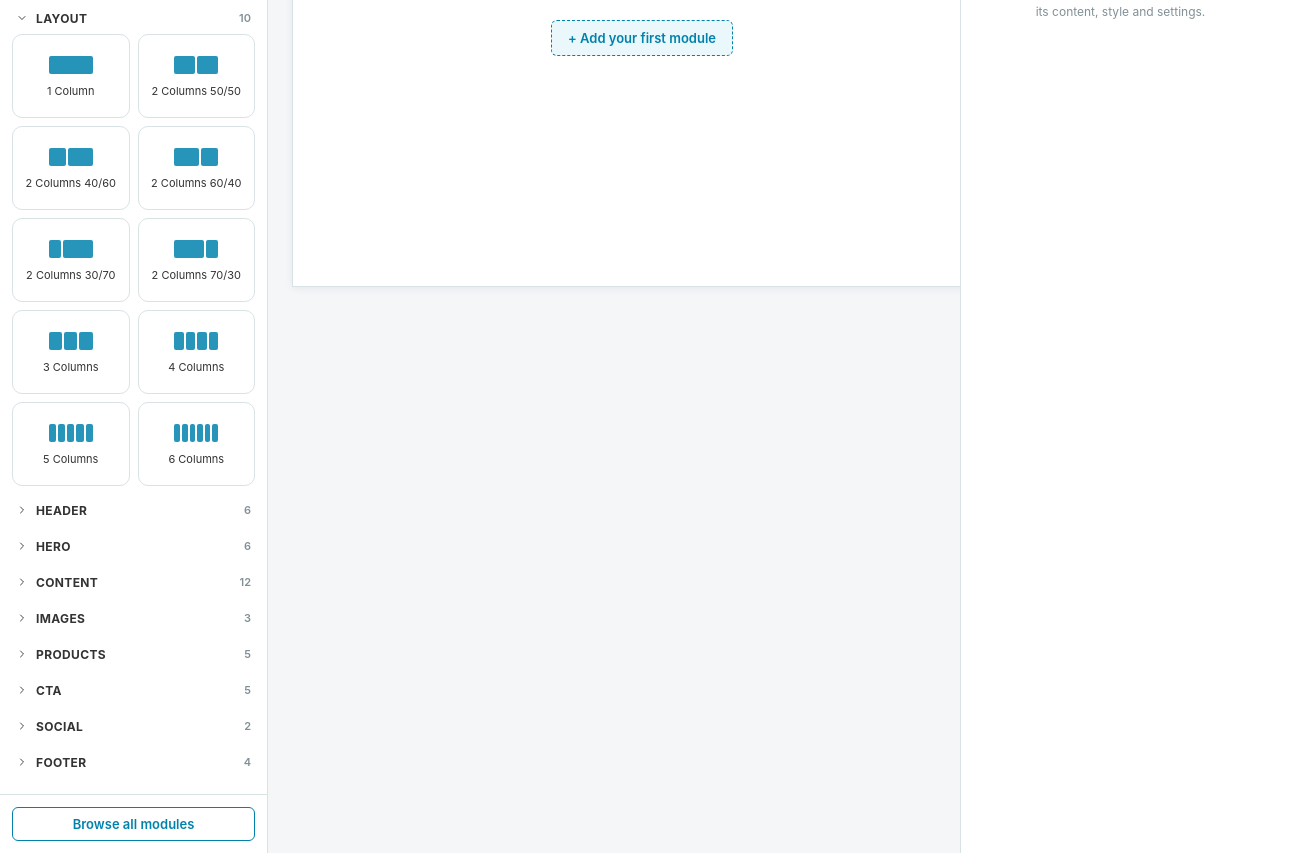
Test case: EmailBuilderWorkspacePage › duplicating a module inserts a second copy
The width and height of the screenshot is (1292, 853).
(page scrolled)
Click the button "CTA 5" at coordinates (134, 690), box [12,674,255,706]
(page scrolled)
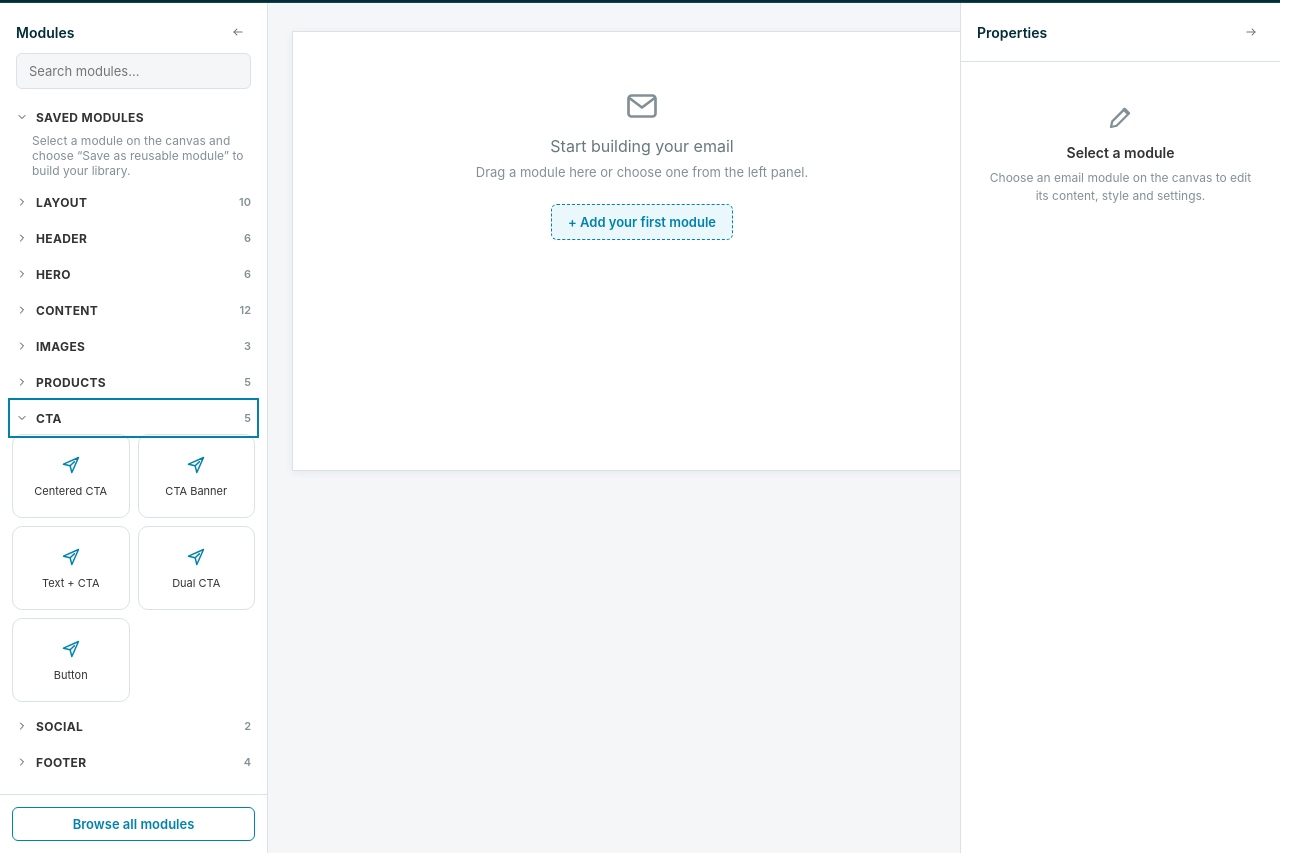
Click the button with aria-label "Add Button" at coordinates (71, 660), box [12,618,130,702]
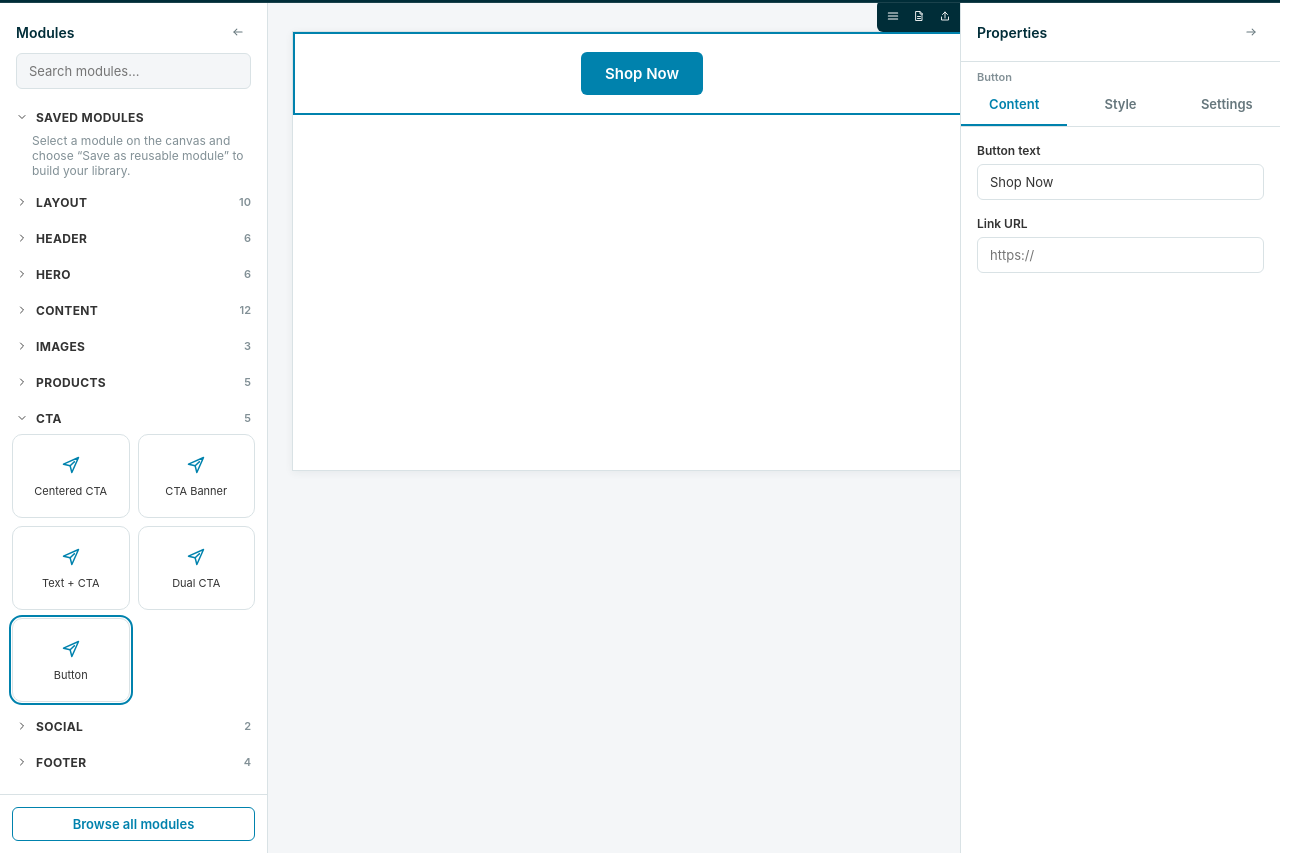
Click the text "Shop Now" at coordinates (642, 74), box [581,52,703,95]
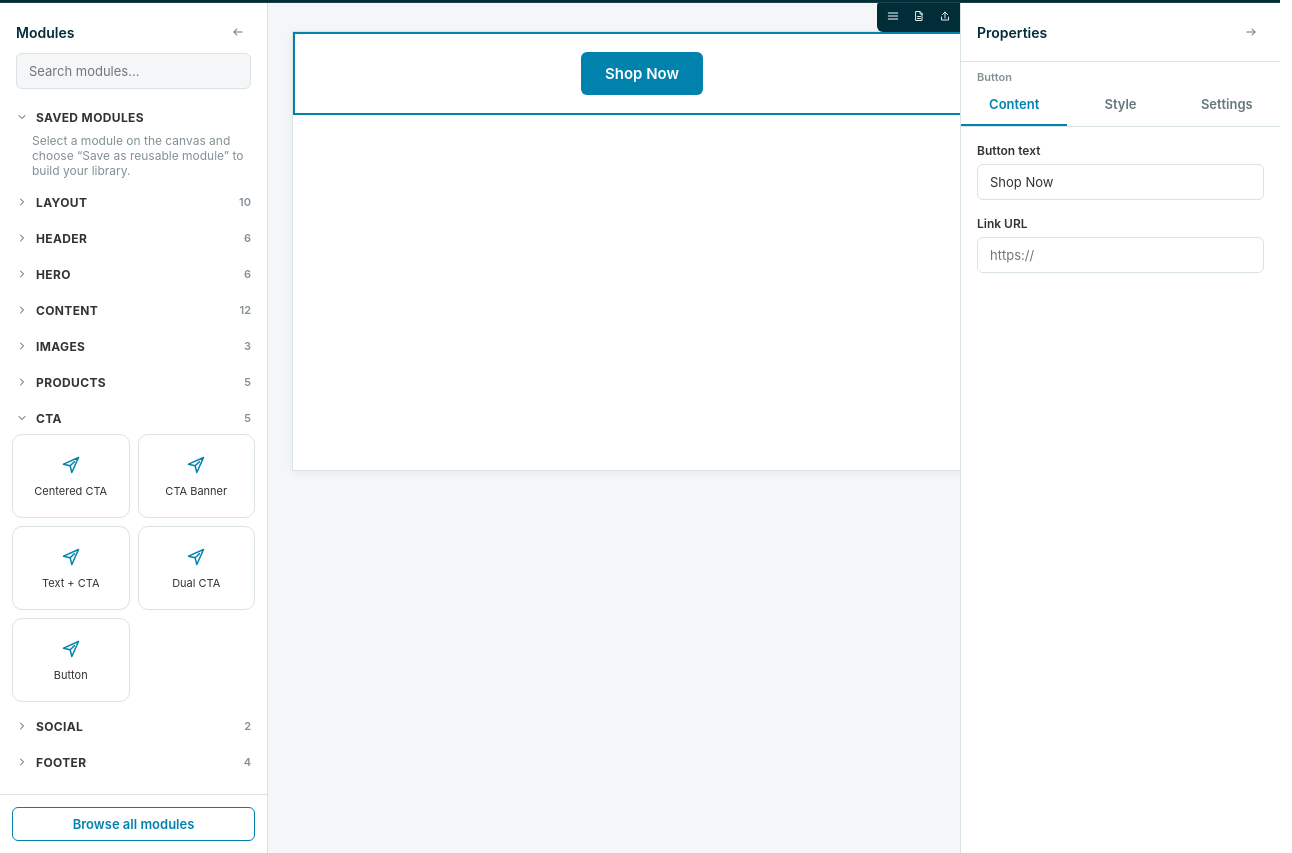
Click the button named "Duplicate" at coordinates (919, 16), box [907,4,931,28]
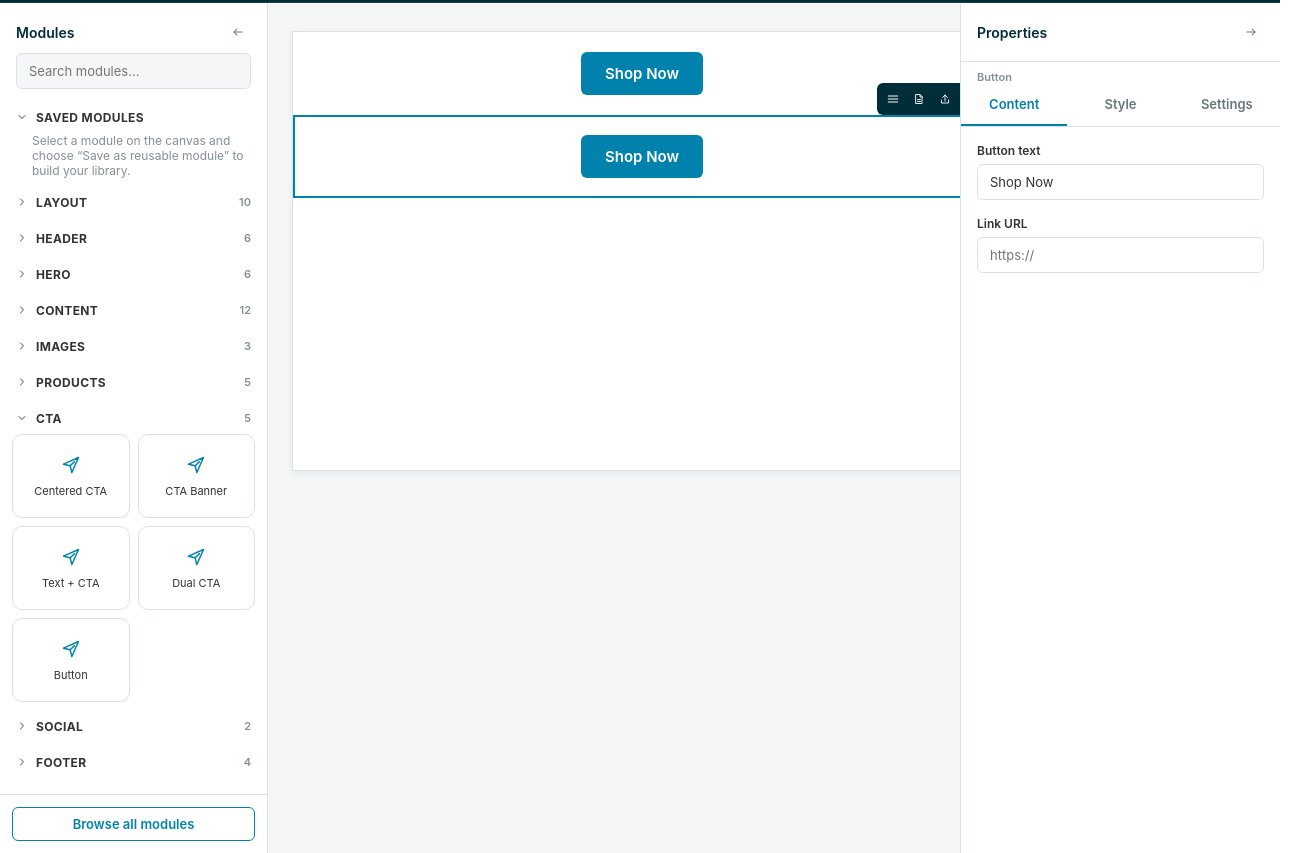
expect the text "Shop Now" is shown 2 times: met, box [581,52,703,95]; [581,135,703,178]
